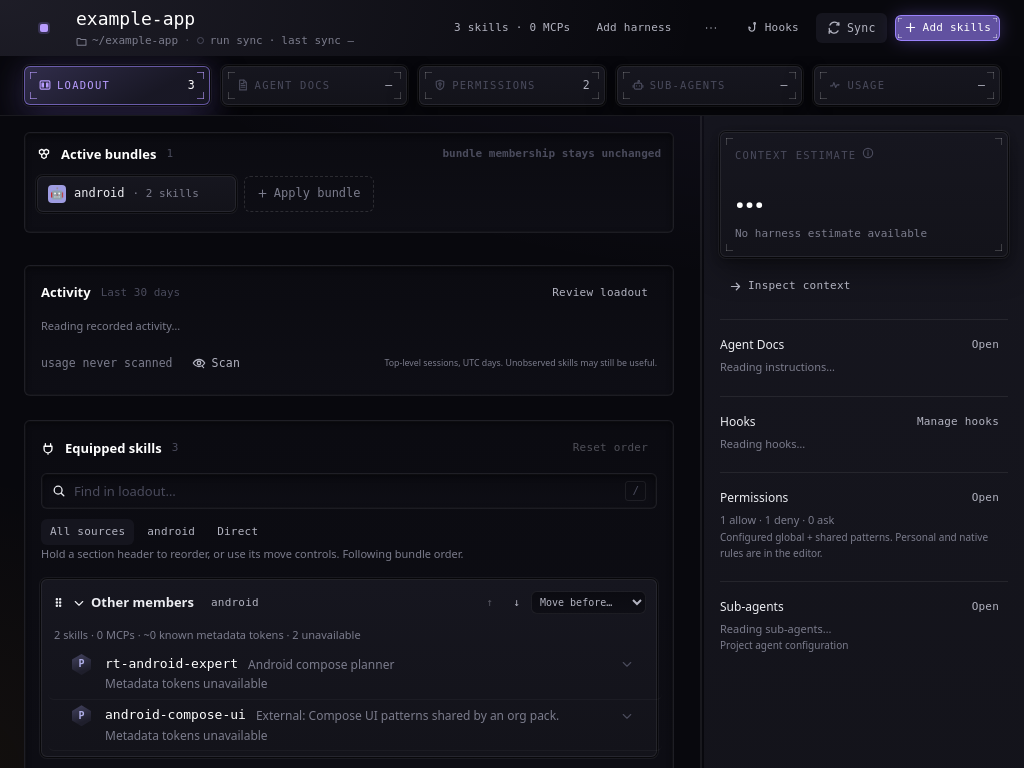
Test case: ProjectWorkspace equip UX › recovers the available row after equip failure
The image size is (1024, 768).
Click the button "Add skills" at (947, 28), box top-left (895, 15), bottom-right (1000, 41)
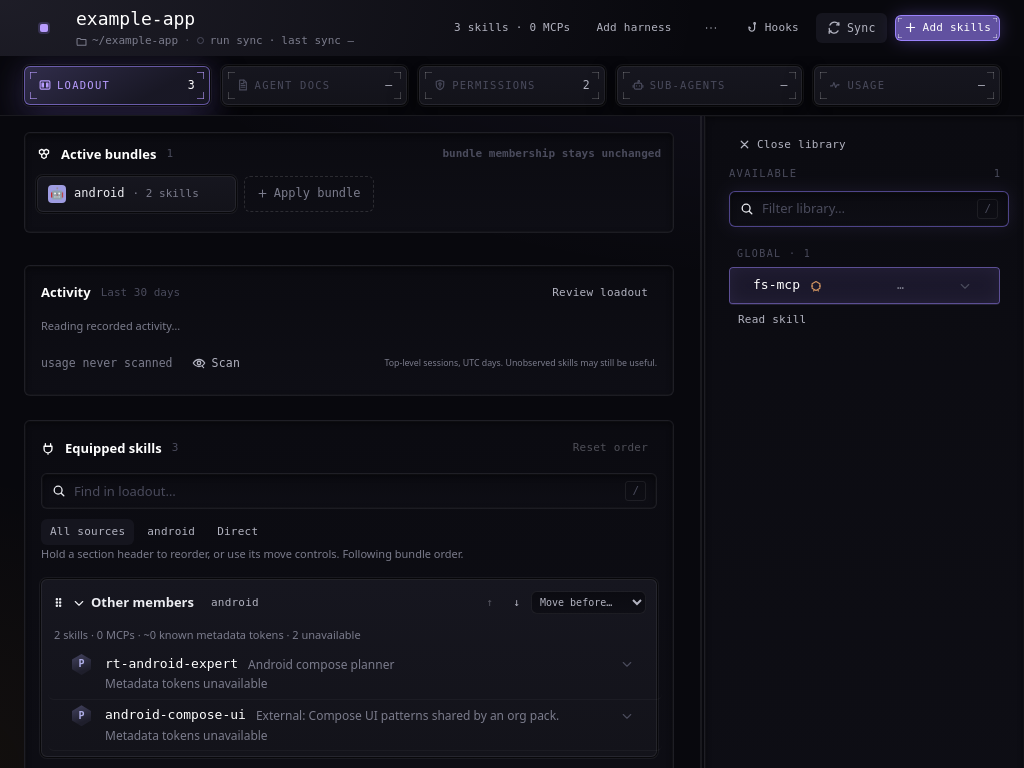
Click the button named "Equip fs-mcp" at (776, 285), box top-left (729, 267), bottom-right (1000, 305)
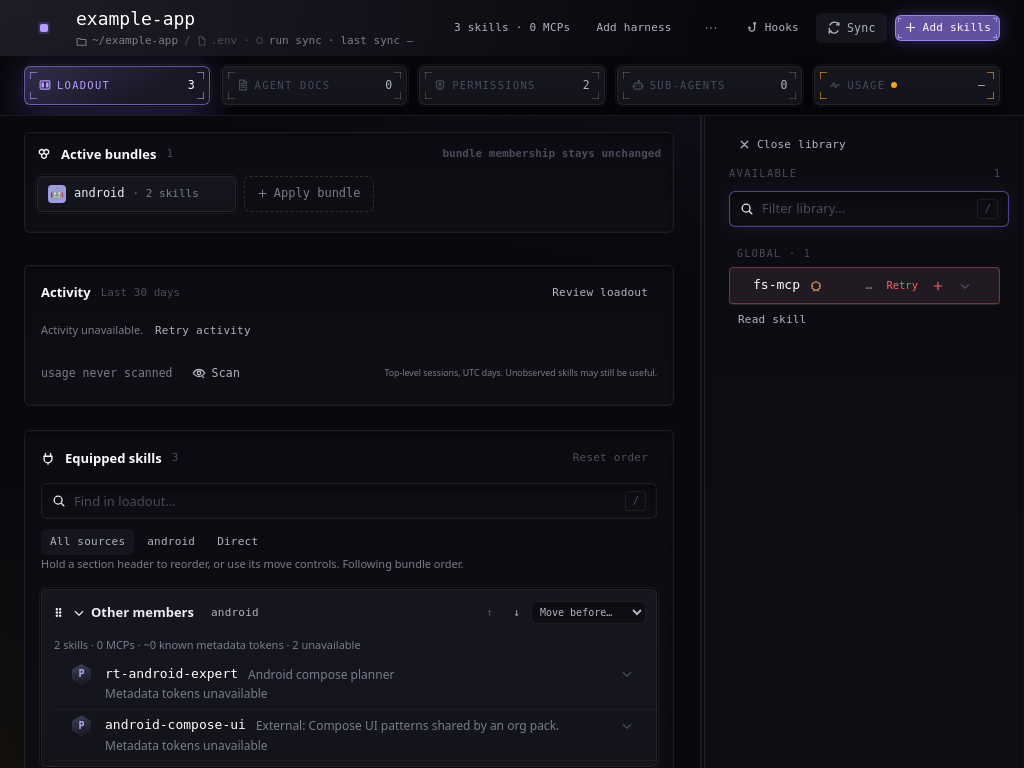
Check: the button named "Equip fs-mcp" is enabled, box top-left (729, 267), bottom-right (1000, 305)
Check: the text "Retry" is shown, box top-left (886, 278), bottom-right (918, 293)
